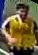yellow: (1, 0, 38, 55)
